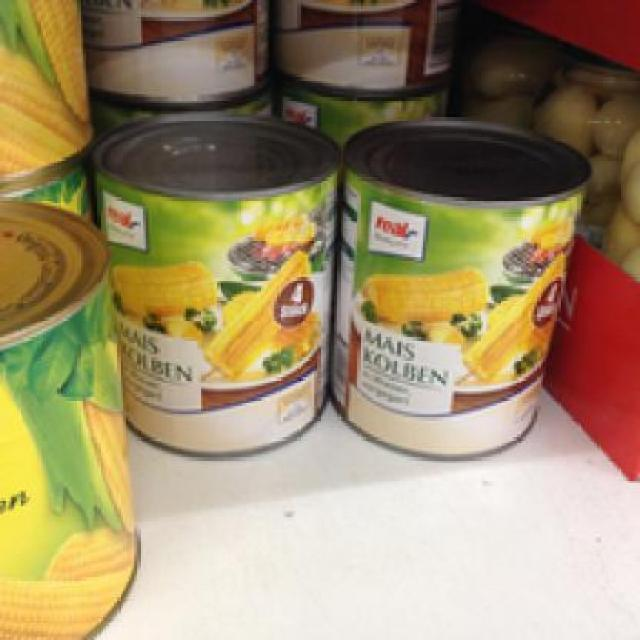Corn: (323, 114, 586, 460), (83, 105, 340, 458), (0, 194, 140, 637)
